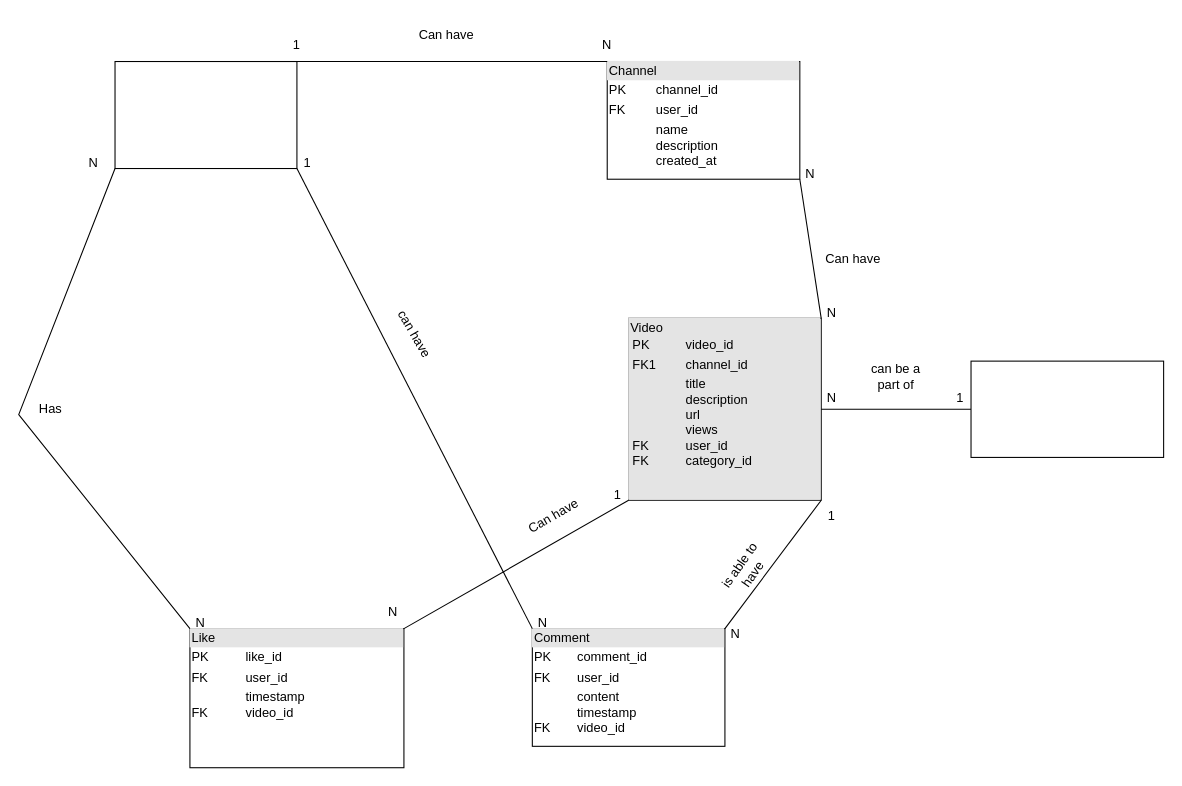
The diagram is 1182 pixels wide and 786 high, and some of its shapes have lost their labels. The shapes that lost their labels are listed below. From the top down, each one's centre as x and y in pixels, then its label:
point 205,114: User PK user_id username email password_hash created_at
point 1067,408: Category PK category_id name description
